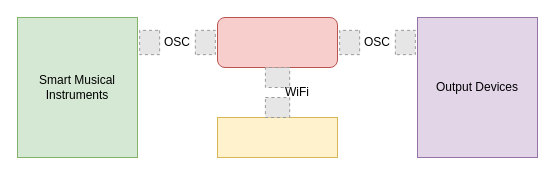
Some shapes in this 555 by 175 pixel diagram are drawn without their labels. Grey dashed boxes stand in for pictures. The box of each missing label's shape, as (x1, y1, x2, y2) in pixels:
Hot Licks Mapper: (216, 16, 338, 68)
Wireless tablet: (216, 116, 338, 158)
